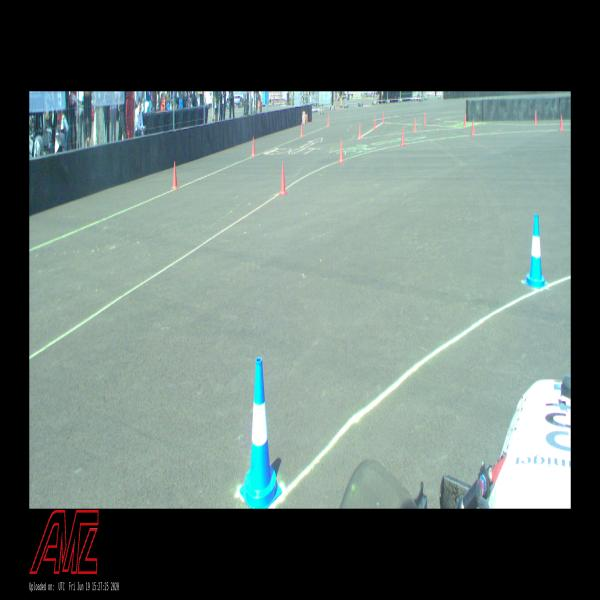blue_cone: (240, 357, 282, 508), (524, 214, 548, 289)
unknown_cone: (279, 163, 287, 195), (171, 162, 179, 188), (338, 139, 344, 162), (251, 137, 256, 156), (401, 127, 405, 146), (560, 115, 564, 131), (534, 111, 538, 124), (358, 123, 361, 138), (373, 116, 376, 129), (300, 123, 303, 136), (472, 119, 474, 136), (423, 114, 426, 125), (414, 117, 416, 132), (464, 114, 466, 127), (327, 114, 329, 126), (382, 112, 384, 123)
